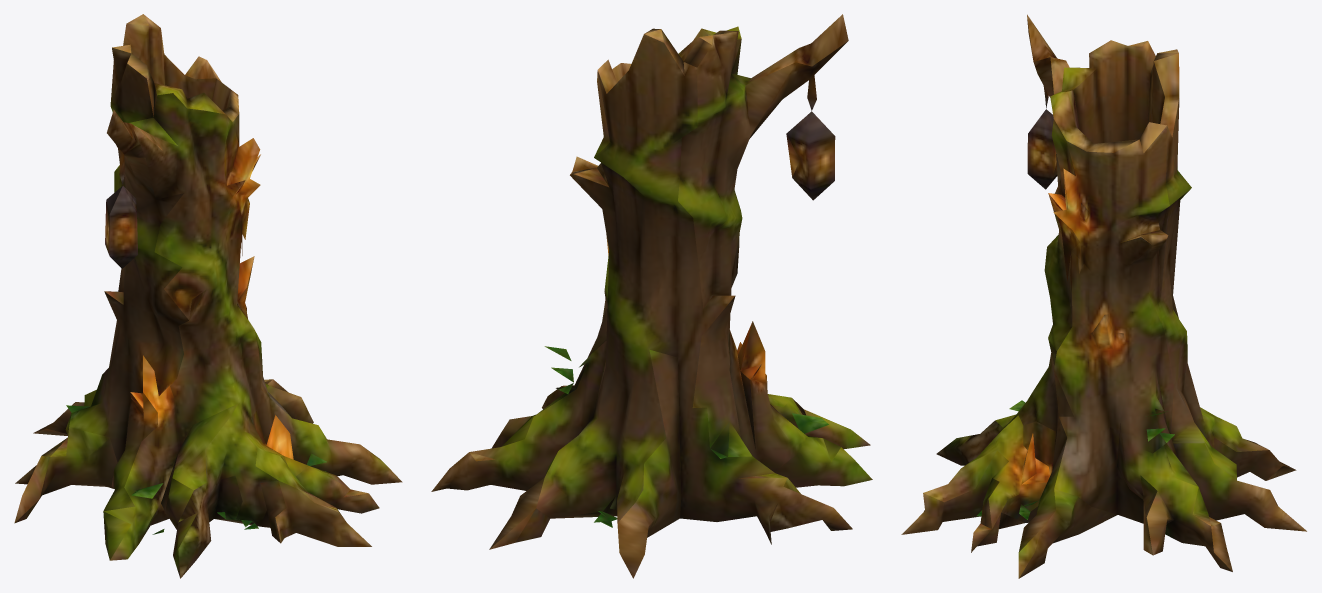
File: d_racines_repere.glb
3 renders of one model, left to right at view 1: azimuth 30°, elevation 25°; view 2: azimuth 150°, elevation 25°; view 3: azimuth 270°, elevation 25°, orthographic. The views are drawn at different scales.
Parts seen in each view (by area): view 1: geometry_0; view 2: geometry_0; view 3: geometry_0.
Part boxes in pixels (left/top/right/bottom): geometry_0: left=14, top=14, right=402, bottom=578; geometry_0: left=431, top=14, right=872, bottom=578; geometry_0: left=901, top=14, right=1306, bottom=578.
Bounding box in the file's own units: 0.7855 × 1 × 0.834.
Materials: 1 (1 with a texture image).
